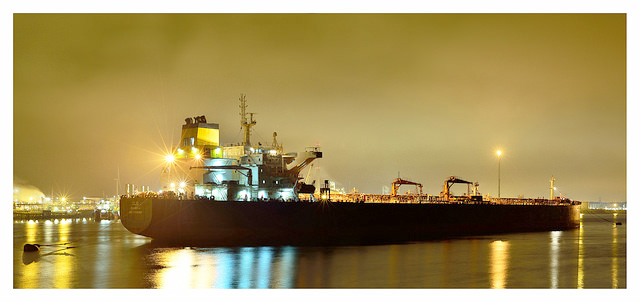tanker: (118, 93, 589, 243)
